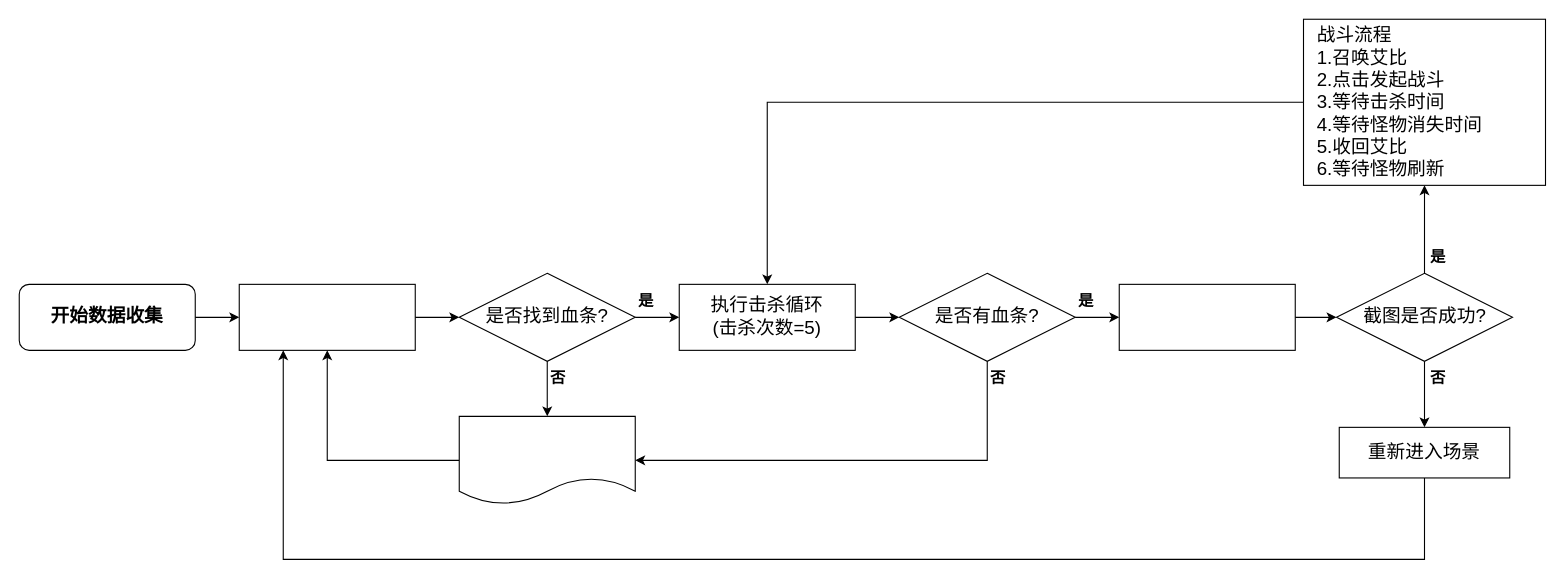
Image size: 1565x587. Some labels were removed from this diagram. The box of each missing label's shape, as (x1, y1, x2, y2) in pixels:
截图上传服务器: (1118, 283, 1295, 350)
走到指定位置且得有血条: (238, 283, 415, 350)
输出: 没找到血条, 重新复位来过: (458, 415, 635, 504)
